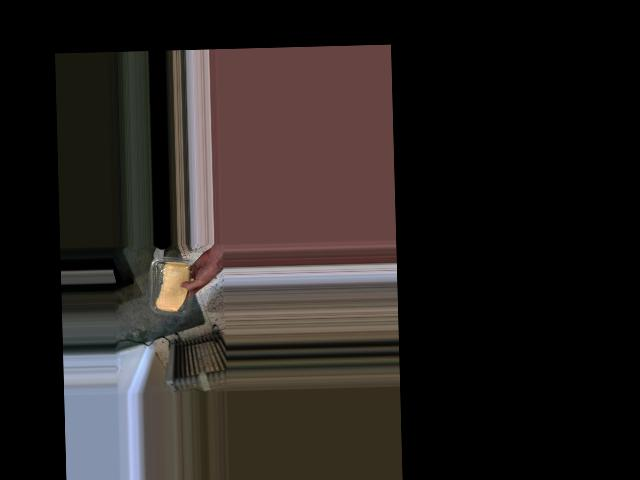cheese: (149, 256, 196, 318)
